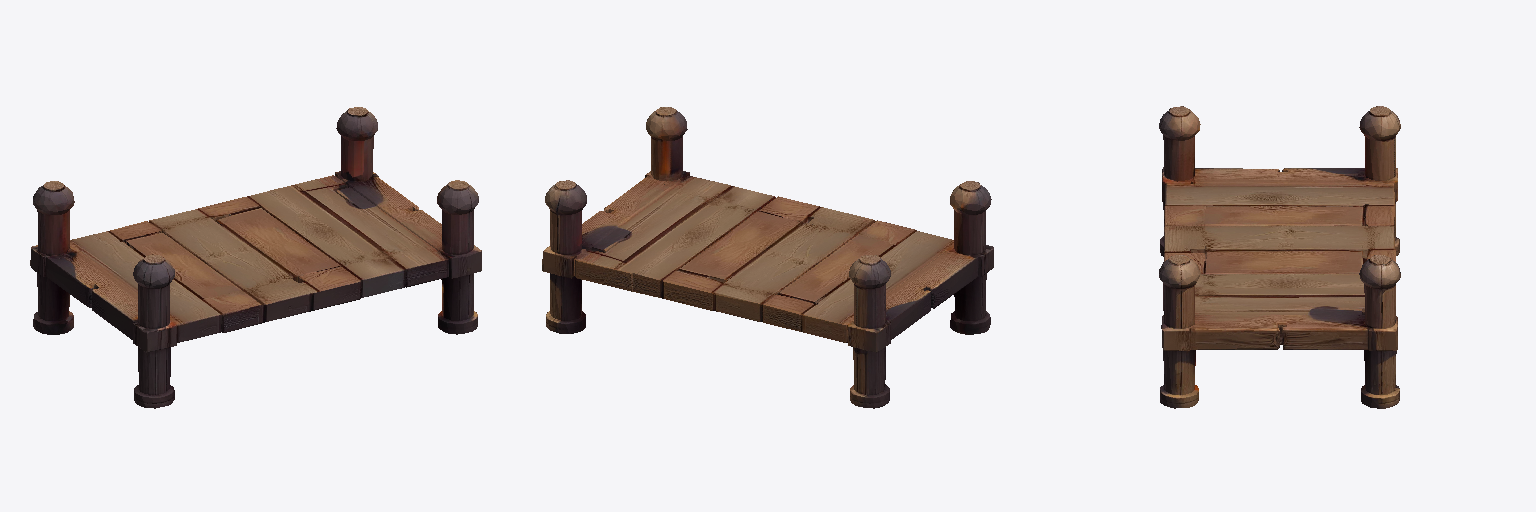
3 views of the same model, side by side, from view 1: azimuth 30°, elevation 25°; view 2: azimuth 150°, elevation 25°; view 3: azimuth 270°, elevation 25° (orthographic).
Visible parts, largest first — view 1: tripo_node_0ca1ab15-1b3a-41a9-a91e-15a72511c005; view 2: tripo_node_0ca1ab15-1b3a-41a9-a91e-15a72511c005; view 3: tripo_node_0ca1ab15-1b3a-41a9-a91e-15a72511c005.
Boxes of the visible parts, x1,y1,x2,y2 form: tripo_node_0ca1ab15-1b3a-41a9-a91e-15a72511c005: [30, 107, 481, 408]; tripo_node_0ca1ab15-1b3a-41a9-a91e-15a72511c005: [542, 107, 993, 408]; tripo_node_0ca1ab15-1b3a-41a9-a91e-15a72511c005: [1159, 106, 1400, 408].
Size of the model in its own units: 1 by 0.3997 by 0.6159.
1 materials, 1 textured.